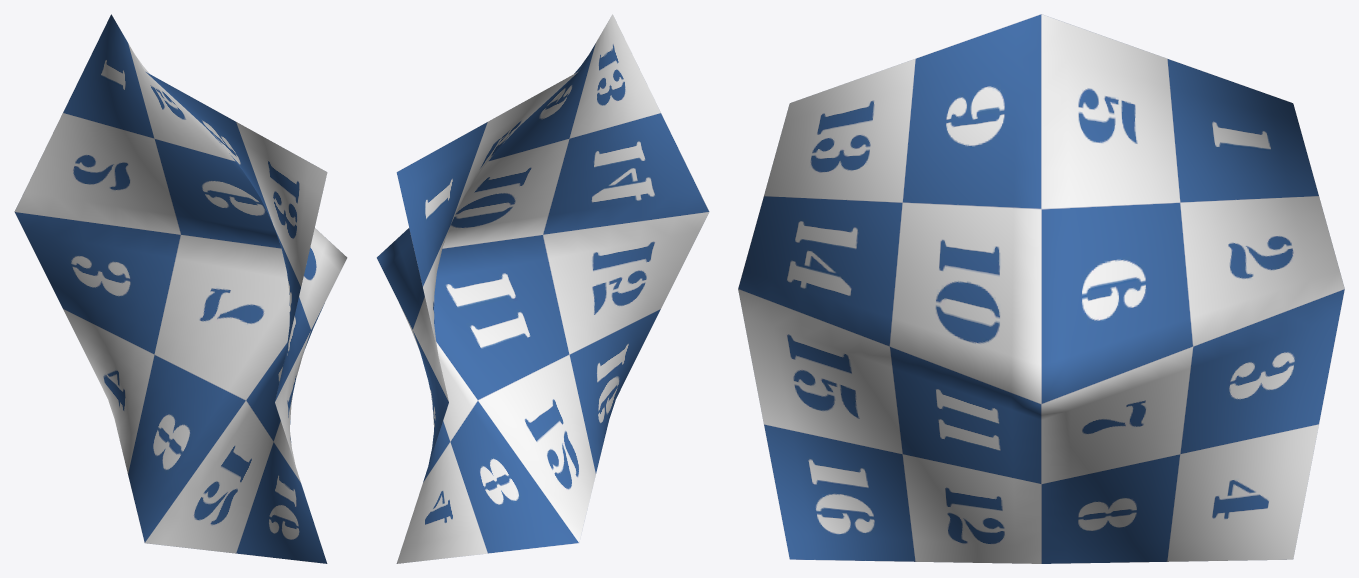
Rendered from Rui_Web3.fbx.
The picture shows the model from 3 angles, left to right: view 1: azimuth 30°, elevation 25°; view 2: azimuth 150°, elevation 25°; view 3: azimuth 270°, elevation 25°; orthographic projection. The views are drawn at different scales.
Parts seen in each view (by area): view 1: SM_e_Plc_P1007_Web003; view 2: SM_e_Plc_P1007_Web003; view 3: SM_e_Plc_P1007_Web003.
Boxes of the visible parts, x1,y1,x2,y2 form: SM_e_Plc_P1007_Web003: (14,14,347,563); SM_e_Plc_P1007_Web003: (376,14,709,563); SM_e_Plc_P1007_Web003: (738,14,1344,563).
Bounding box in the file's own units: 54.19 × 120 × 120.
